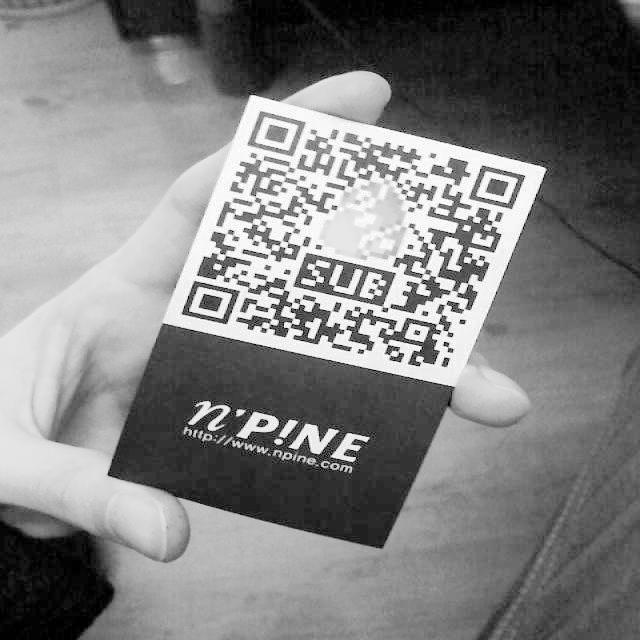qr_code: (180, 110, 525, 373)
